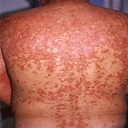Pityriasis Rubra Pilaris: (4, 16, 125, 101)
